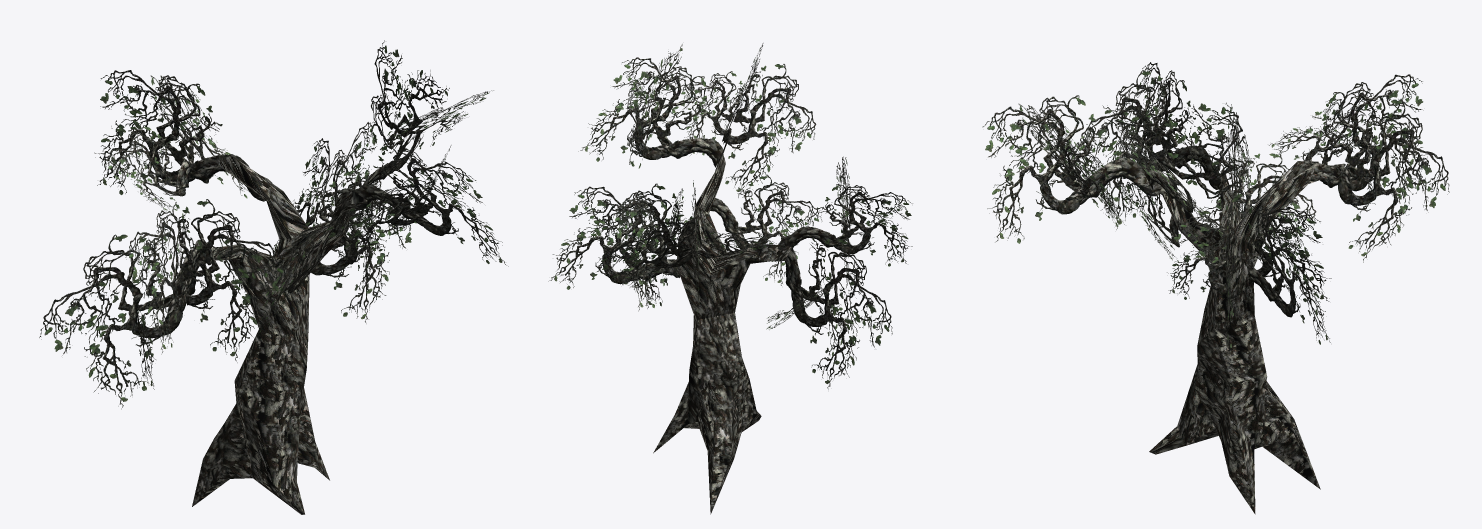
File: decd_dath_azerontree_l1.fbx
The picture shows the model from 3 angles, left to right: view 1: azimuth 30°, elevation 25°; view 2: azimuth 150°, elevation 25°; view 3: azimuth 270°, elevation 25°; orthographic projection. The views are drawn at different scales.
Visible parts, largest first — view 1: mesh_node; view 2: mesh_node; view 3: mesh_node.
Part boxes in pixels (x1,y1,x2,y2): mesh_node: (39, 40, 508, 514); mesh_node: (548, 43, 912, 514); mesh_node: (982, 62, 1449, 514).
Size of the model in its own units: 25.35 by 27.07 by 26.09.
3 materials, 3 textured.
